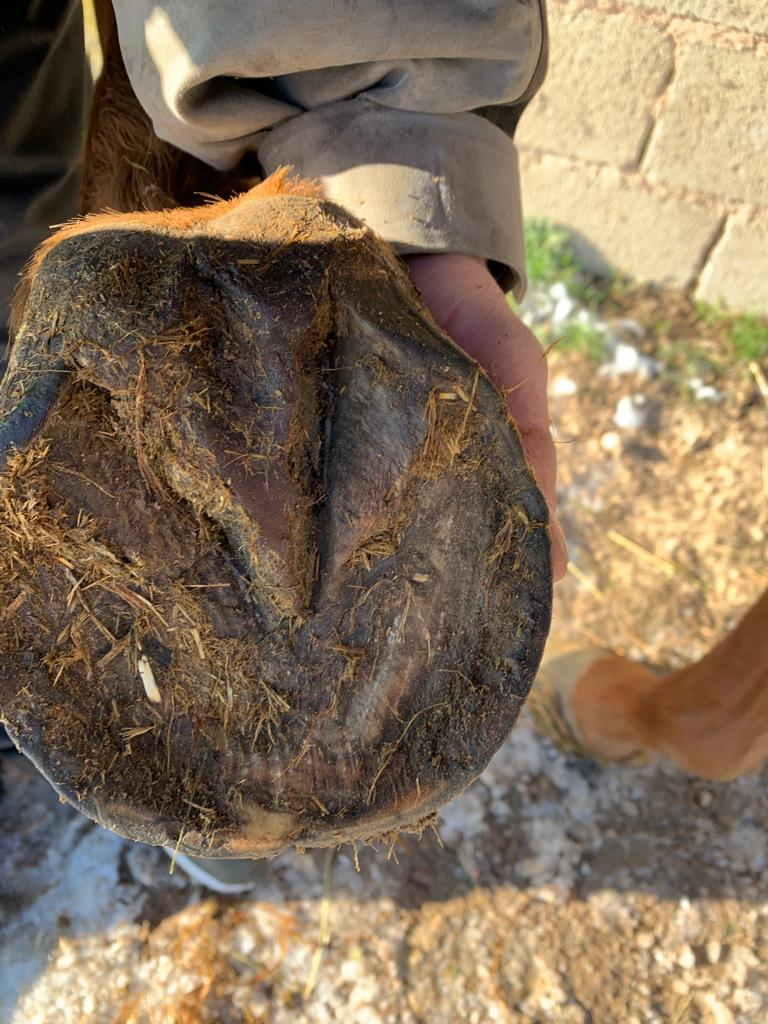horsesole: (1, 290, 553, 860)
